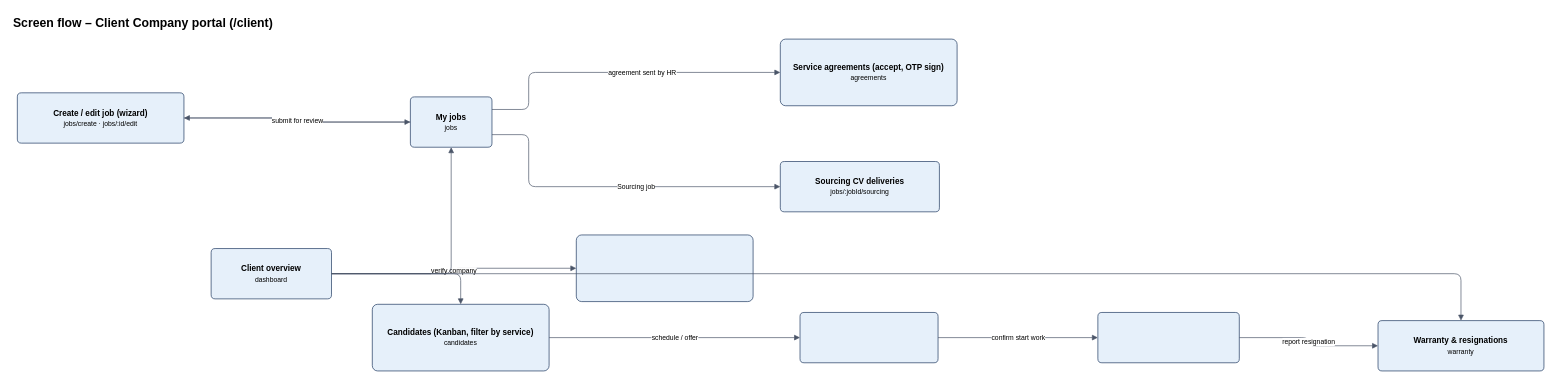
Image size: 1556x383. Some labels were removed from this diagram. Each missing label, with the centre of its shape:
Company profile & verification company: (x=664, y=268)
Interviews & offers interviews-offers: (x=868, y=337)
Placement detail placements/:placementId: (x=1168, y=337)
